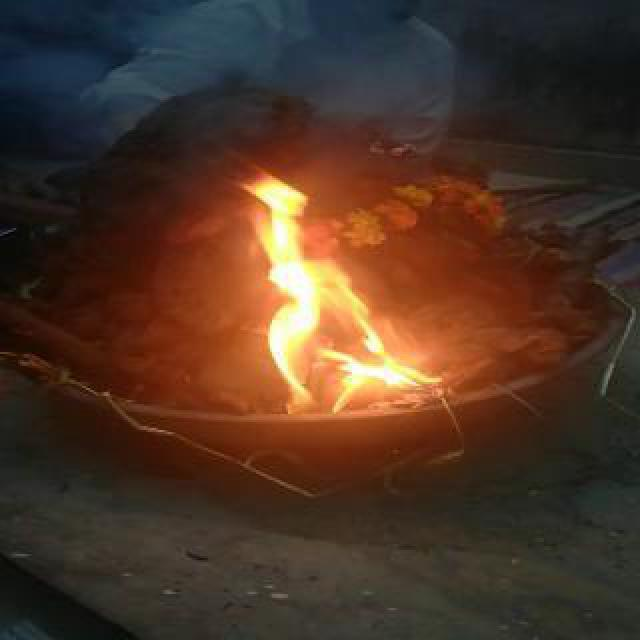smoke: (12, 10, 442, 128)
zfire: (222, 160, 438, 420)
